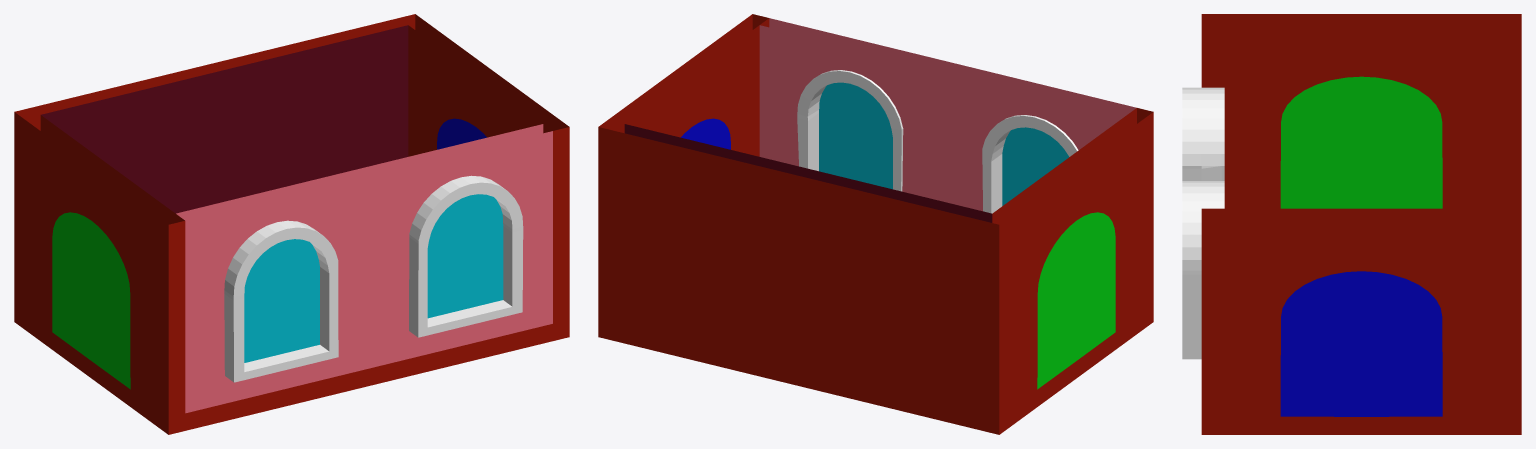
Rendered from test_building2.glb.
The picture shows the model from 3 angles, left to right: view 1: azimuth 30°, elevation 25°; view 2: azimuth 150°, elevation 25°; view 3: azimuth 270°, elevation 25°; orthographic projection. The views are drawn at different scales.
Visible parts, largest first — view 1: mesh; view 2: mesh; view 3: mesh.
Part boxes in pixels (bbox=[...]): mesh: bbox=[14, 14, 569, 434]; mesh: bbox=[598, 14, 1153, 434]; mesh: bbox=[1182, 14, 1521, 434].
Size of the model in its own units: 12.02 by 6.01 by 8.48.
